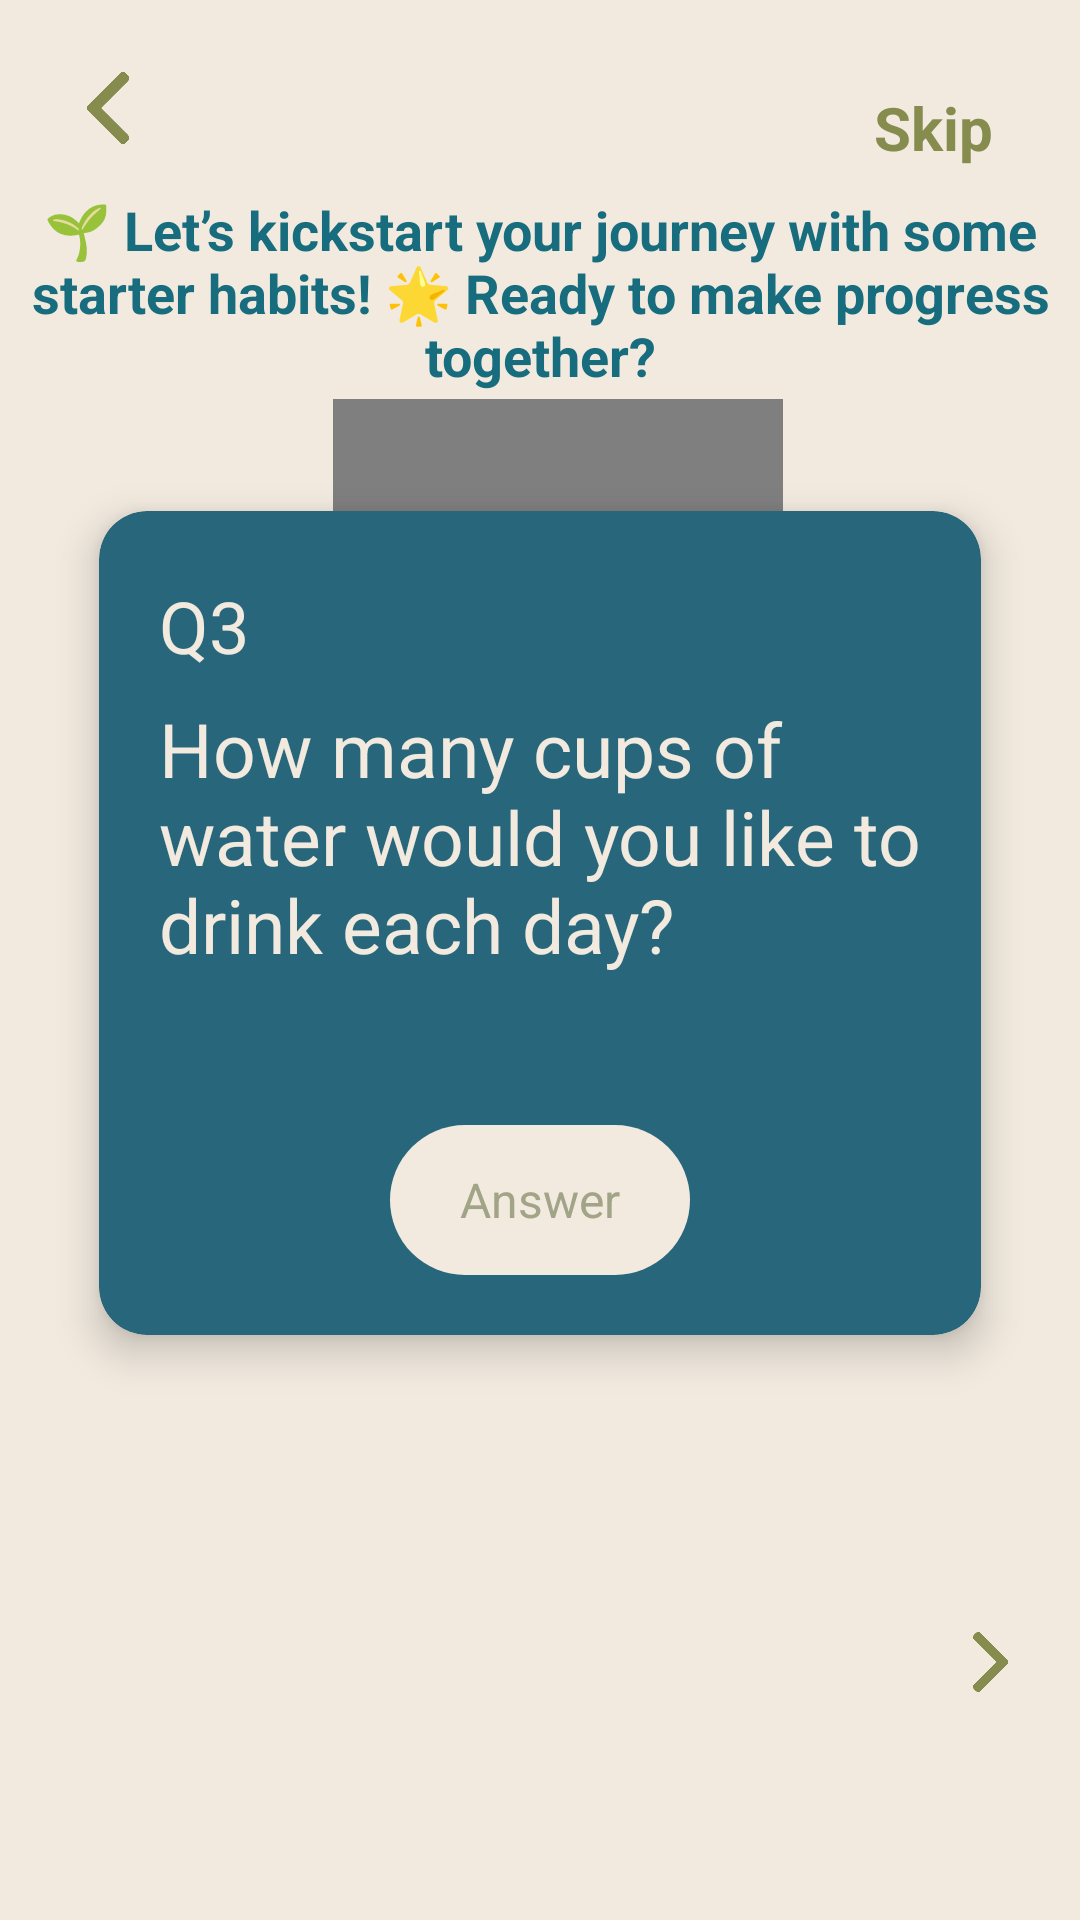

Icon click points for this 1080 x 1920 phone screenshot, format (x,y):
back arrow: (108,108)
Continue: (990,1662)
